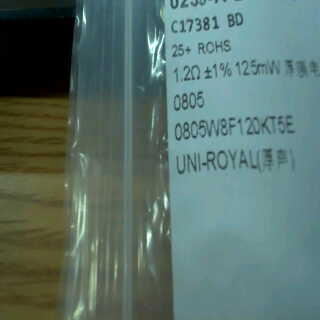1.2R: (168, 60, 206, 113)
